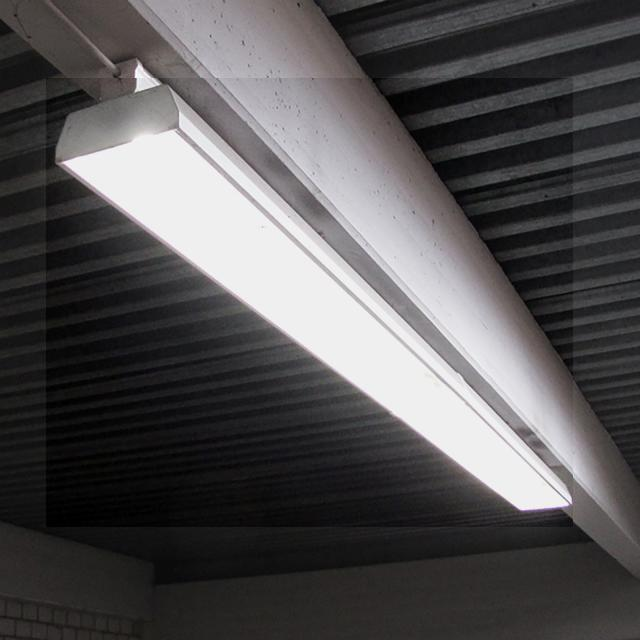Straight-Tube-Fluorescent-Lamp: (41, 85, 577, 527)
